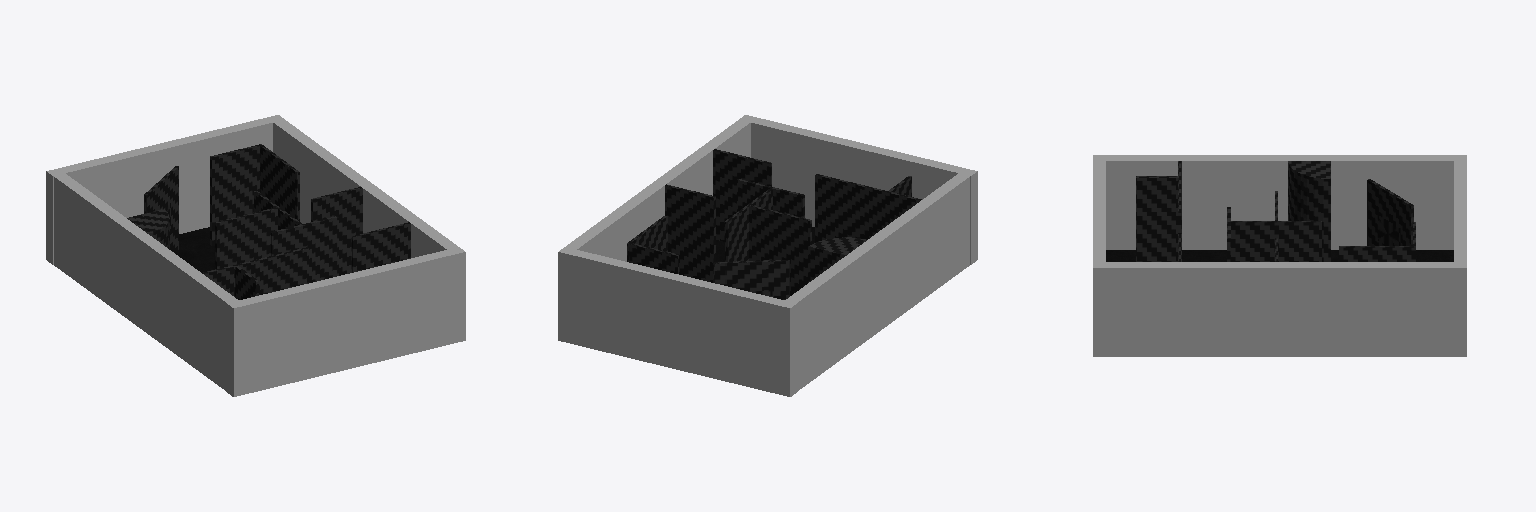
3 views of the same model, side by side, from view 1: azimuth 30°, elevation 25°; view 2: azimuth 150°, elevation 25°; view 3: azimuth 270°, elevation 25° (orthographic).
Parts seen in each view (by area): view 1: Куб.013_Куб.003, Куб, Куб.012_Куб.015, Куб.011_Куб.001, Куб.009_Куб.013, Куб.007_Куб.011, Куб.003_Куб.007, Куб.001_Куб.005, Куб.004_Куб.008, Куб.002_Куб.006, Куб.008_Куб.012, Куб.010_Куб.014 (+4 smaller); view 2: Куб.012_Куб.015, Куб, Куб.013_Куб.003, Куб.011_Куб.001, Куб.001_Куб.005, Куб.004_Куб.008, Куб.007_Куб.011, Куб.002_Куб.006, Куб.010_Куб.014, Куб.006_Куб.010, Куб.003_Куб.007, Цилиндр.001_Цилиндр (+2 smaller); view 3: Куб.011_Куб.001, Куб, Куб.006_Куб.010, Куб.005_Куб.009, Цилиндр.001_Цилиндр, Куб.010_Куб.014, Плоскость_Плоскость.001, Куб.012_Куб.015, Куб.013_Куб.003, Куб.008_Куб.012.
Part boxes in pixels (bbox=[...]): Куб.013_Куб.003: bbox=[227, 248, 464, 396]; Куб: bbox=[49, 170, 245, 396]; Куб.012_Куб.015: bbox=[46, 115, 283, 264]; Куб.011_Куб.001: bbox=[268, 115, 465, 342]; Куб.009_Куб.013: bbox=[210, 145, 259, 245]; Куб.007_Куб.011: bbox=[215, 207, 277, 268]; Куб.003_Куб.007: bbox=[271, 216, 338, 282]; Куб.001_Куб.005: bbox=[202, 247, 308, 296]; Куб.004_Куб.008: bbox=[311, 187, 362, 275]; Куб.002_Куб.006: bbox=[352, 222, 410, 272]; Куб.008_Куб.012: bbox=[259, 144, 299, 221]; Куб.010_Куб.014: bbox=[144, 166, 178, 255]; Куб.012_Куб.015: bbox=[559, 248, 796, 396]; Куб: bbox=[778, 170, 976, 396]; Куб.013_Куб.003: bbox=[743, 116, 977, 264]; Куб.011_Куб.001: bbox=[558, 115, 756, 342]; Куб.001_Куб.005: bbox=[815, 174, 921, 242]; Куб.004_Куб.008: bbox=[665, 184, 715, 282]; Куб.007_Куб.011: bbox=[749, 205, 811, 295]; Куб.002_Куб.006: bbox=[713, 149, 771, 241]; Куб.010_Куб.014: bbox=[713, 260, 789, 299]; Куб.006_Куб.010: bbox=[725, 188, 772, 261]; Куб.003_Куб.007: bbox=[737, 179, 804, 217]; Цилиндр.001_Цилиндр: bbox=[809, 237, 866, 281]; Куб.011_Куб.001: bbox=[1093, 262, 1466, 356]; Куб: bbox=[1093, 155, 1466, 249]; Куб.006_Куб.010: bbox=[1230, 221, 1321, 261]; Куб.005_Куб.009: bbox=[1136, 176, 1177, 261]; Цилиндр.001_Цилиндр: bbox=[1288, 161, 1330, 261]; Куб.010_Куб.014: bbox=[1367, 179, 1413, 245]; Плоскость_Плоскость.001: bbox=[1106, 250, 1453, 261]; Куб.012_Куб.015: bbox=[1454, 157, 1466, 267]; Куб.013_Куб.003: bbox=[1093, 156, 1105, 267]; Куб.008_Куб.012: bbox=[1339, 246, 1415, 261].
Size of the model in its own units: 1.57 by 0.5765 by 2.2.
Materials: 1 (1 with a texture image).